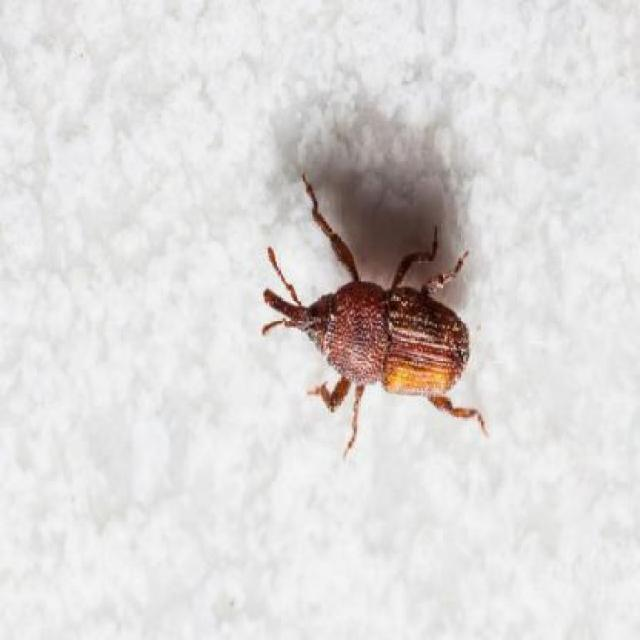rice-bug: (262, 229, 480, 429)
